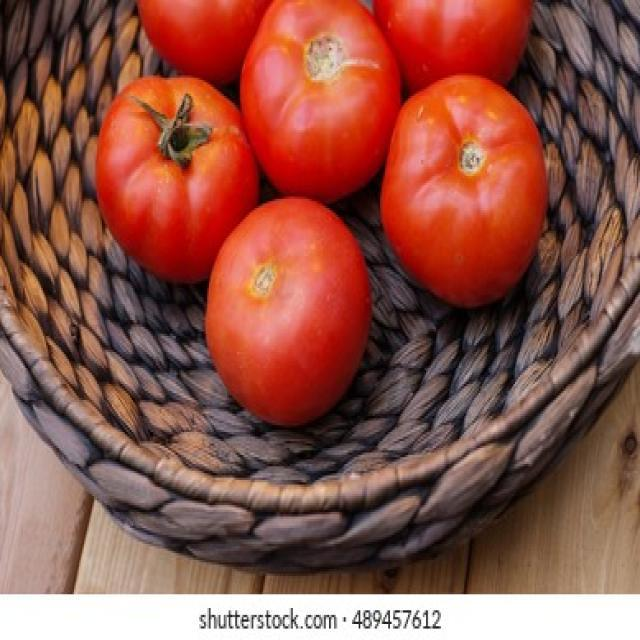kirmizi: (98, 68, 560, 420)
